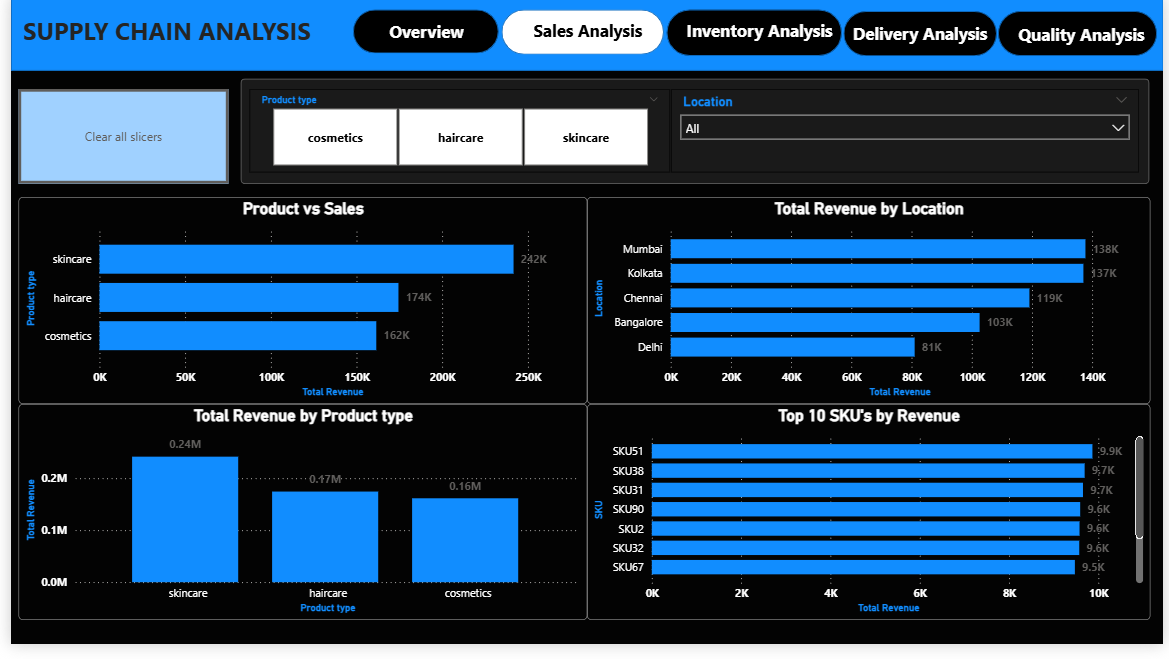

This screenshot's page, from the dashboard's own definition file:
{"tool":"powerbi","page":{"name":"Sales Analysis","canvas":[1280,720],"ordinal":1},"visuals":[{"type":"shape","box":[0,0,1280.6,83.1],"z":0},{"type":"textbox","box":[8.6,15.8,356.7,61.6],"z":1000},{"type":"shape","box":[379.6,15.8,161.9,48.7],"z":2000},{"type":"shape","box":[544.3,15.8,180.5,50.1],"z":3000,"group":"g1"},{"type":"shape","box":[728.3,15,195,51.7],"z":4000},{"type":"shape","box":[925.3,17.2,170.5,50.1],"z":5000},{"type":"shape","box":[1096.7,16.7,176.7,50],"z":6000},{"type":"actionButton","box":[8.3,103.3,233.3,105],"z":7000},{"type":"textbox","box":[399.6,21.5,123.2,38.7],"z":8000},{"type":"textbox","box":[568.7,21.5,141.8,38.7],"z":9000,"group":"g1"},{"type":"textbox","box":[738.3,20,186.7,41.7],"z":10000},{"type":"textbox","box":[923.9,22.9,173.3,38.7],"z":11000},{"type":"textbox","box":[1108.7,24.4,161.9,35.8],"z":12000},{"type":"clusteredBarChart","title":"Product vs Sales","fields":{"Category":["supply_chain_data.Product type"],"Y":["supply_chain_data.Total Revenue"]},"box":[8,224,632,230],"z":13000},{"type":"shape","box":[255.5,90.9,1010,117.3],"z":14000},{"type":"slicer","fields":{"Values":["supply_chain_data.Product type"]},"box":[265.5,102.7,467.3,92.7],"z":15000},{"type":"slicer","fields":{"Values":["supply_chain_data.Location"]},"box":[732.5,102.5,520,92.5],"z":16000},{"type":"clusteredColumnChart","fields":{"Category":["supply_chain_data.Product type"],"Y":["supply_chain_data.Total Revenue"]},"box":[8,454,632,240],"z":17000},{"type":"barChart","fields":{"Category":["supply_chain_data.Location"],"Y":["supply_chain_data.Total Revenue"]},"box":[640,224,626,230],"z":18000},{"type":"clusteredBarChart","title":"Top 10 SKU''s by Revenue","fields":{"Category":["supply_chain_data.SKU"],"Y":["supply_chain_data.Total Revenue"]},"box":[640,454,626,240],"z":19000},{"type":"group","id":"g1","title":"Group 1","box":[544.3,15.8,180.5,50.1],"z":19001}]}

Visuals, with their boxes in screenshot pixels (x1, y1, x2, y2), scaled from the page's 1280x720 canvas onto the 1169x659 screenshot:
shape: locate(0, 0, 1168, 76)
textbox: locate(8, 14, 334, 71)
shape: locate(347, 14, 495, 59)
shape: locate(497, 14, 662, 60)
shape: locate(665, 14, 843, 61)
shape: locate(845, 16, 1001, 62)
shape: locate(1002, 15, 1163, 61)
actionButton: locate(8, 95, 221, 191)
textbox: locate(365, 20, 477, 55)
textbox: locate(519, 20, 649, 55)
textbox: locate(674, 18, 845, 56)
textbox: locate(844, 21, 1002, 56)
textbox: locate(1013, 22, 1160, 55)
"Product vs Sales" clusteredBarChart: locate(7, 205, 584, 416)
shape: locate(233, 83, 1156, 191)
slicer - supply_chain_data.Product type: locate(242, 94, 669, 179)
slicer - supply_chain_data.Location: locate(669, 94, 1144, 178)
clusteredColumnChart - supply_chain_data.Product type x supply_chain_data.Total Revenue: locate(7, 416, 584, 635)
barChart - supply_chain_data.Location x supply_chain_data.Total Revenue: locate(584, 205, 1156, 416)
"Top 10 SKU''s by Revenue" clusteredBarChart: locate(584, 416, 1156, 635)
"Group 1" group: locate(497, 14, 662, 60)
